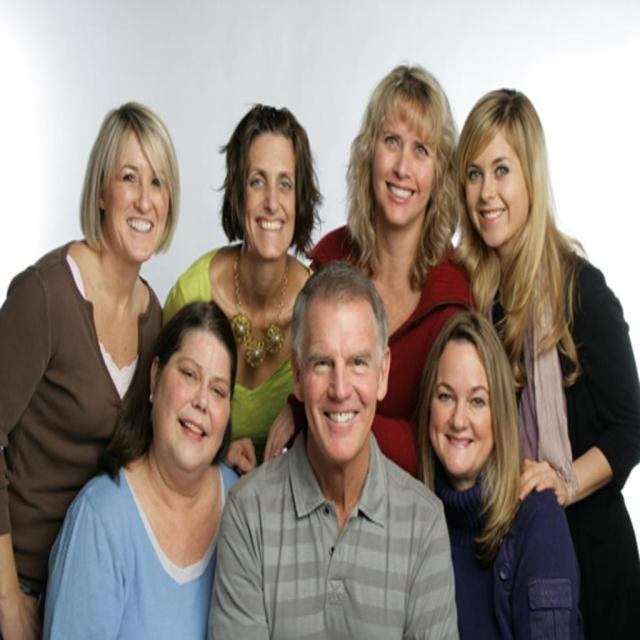Face: (150, 314, 249, 472), (299, 296, 393, 461), (88, 125, 179, 281), (452, 113, 547, 257), (227, 121, 316, 261), (372, 76, 440, 232), (432, 335, 501, 487)
